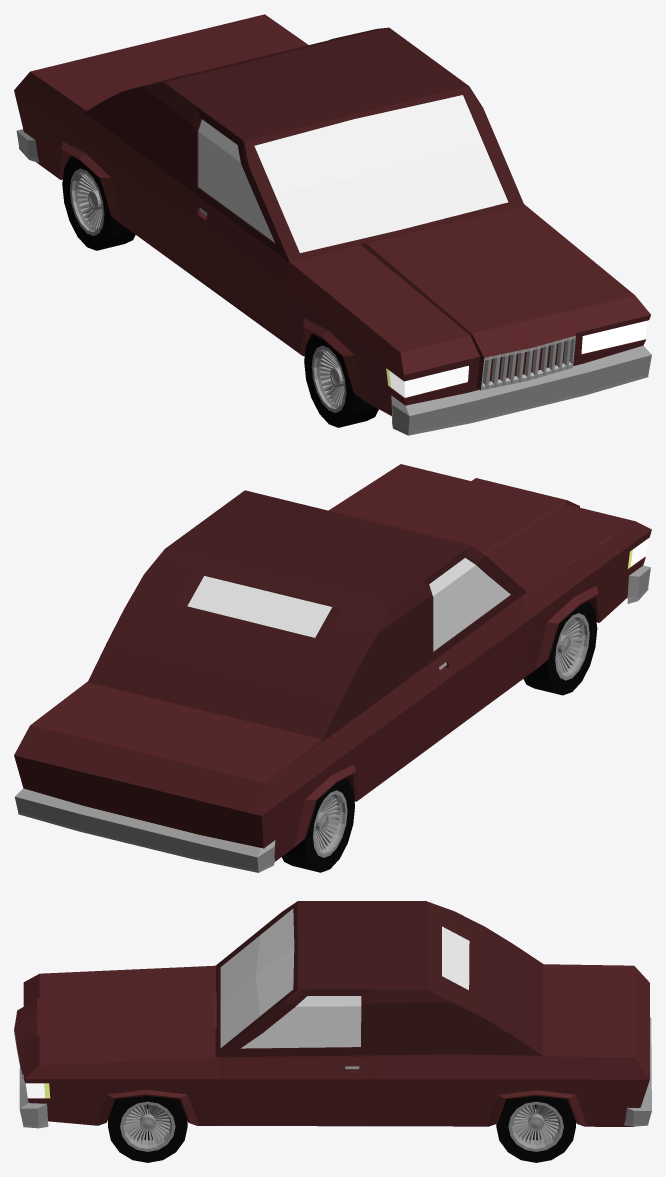
Rendered from carro.glb.
3 renders of one model, top to bottom at view 1: azimuth 30°, elevation 25°; view 2: azimuth 150°, elevation 25°; view 3: azimuth 270°, elevation 25°, orthographic. The views are drawn at different scales.
Visible parts, largest first — view 1: Lataria, Capo, Vidros, Metal, Para-choque, Grades, Farois, Pneu.003, Pneu.002, Roda.003, Roda.002; view 2: Lataria, Capo, Vidros, Para-choque.001, Metal, Pneu.003, Pneu.002, Roda.002, Roda.003, Para-choque; view 3: Lataria, Capo, Vidros, Metal, Pneu, Pneu.001, Roda.001, Roda, Para-choque, Para-choque.001.
Boxes of the visible parts, bbox=[...] form: Lataria: bbox=[14, 14, 650, 416]; Capo: bbox=[84, 27, 524, 262]; Vidros: bbox=[198, 95, 508, 252]; Metal: bbox=[361, 222, 575, 390]; Para-choque: bbox=[391, 345, 651, 435]; Grades: bbox=[481, 335, 575, 390]; Farois: bbox=[389, 320, 647, 397]; Pneu.003: bbox=[304, 334, 378, 427]; Pneu.002: bbox=[62, 156, 135, 250]; Roda.003: bbox=[311, 345, 346, 412]; Roda.002: bbox=[70, 168, 104, 235]; Lataria: bbox=[14, 464, 651, 861]; Capo: bbox=[88, 490, 526, 742]; Vidros: bbox=[187, 558, 510, 651]; Para-choque.001: bbox=[15, 788, 275, 872]; Metal: bbox=[401, 478, 579, 555]; Pneu.003: bbox=[523, 601, 597, 695]; Pneu.002: bbox=[282, 778, 354, 872]; Roda.002: bbox=[313, 790, 347, 857]; Roda.003: bbox=[555, 613, 589, 680]; Para-choque: bbox=[565, 554, 650, 603]; Lataria: bbox=[23, 964, 649, 1126]; Capo: bbox=[215, 901, 543, 1057]; Vidros: bbox=[220, 908, 469, 1048]; Metal: bbox=[14, 992, 216, 1074]; Pneu: bbox=[108, 1096, 187, 1162]; Pneu.001: bbox=[496, 1096, 575, 1162]; Roda.001: bbox=[508, 1101, 563, 1151]; Roda: bbox=[120, 1101, 175, 1151]; Para-choque: bbox=[19, 1067, 48, 1128]; Para-choque.001: bbox=[624, 1017, 651, 1126].
Bounding box in the file's own units: 3.62 × 2.92 × 9.69.
